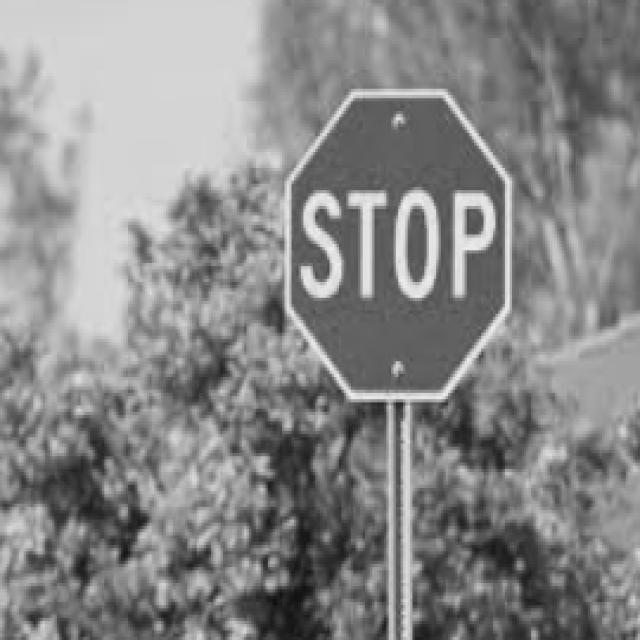Stop-signs: (286, 91, 512, 402)
